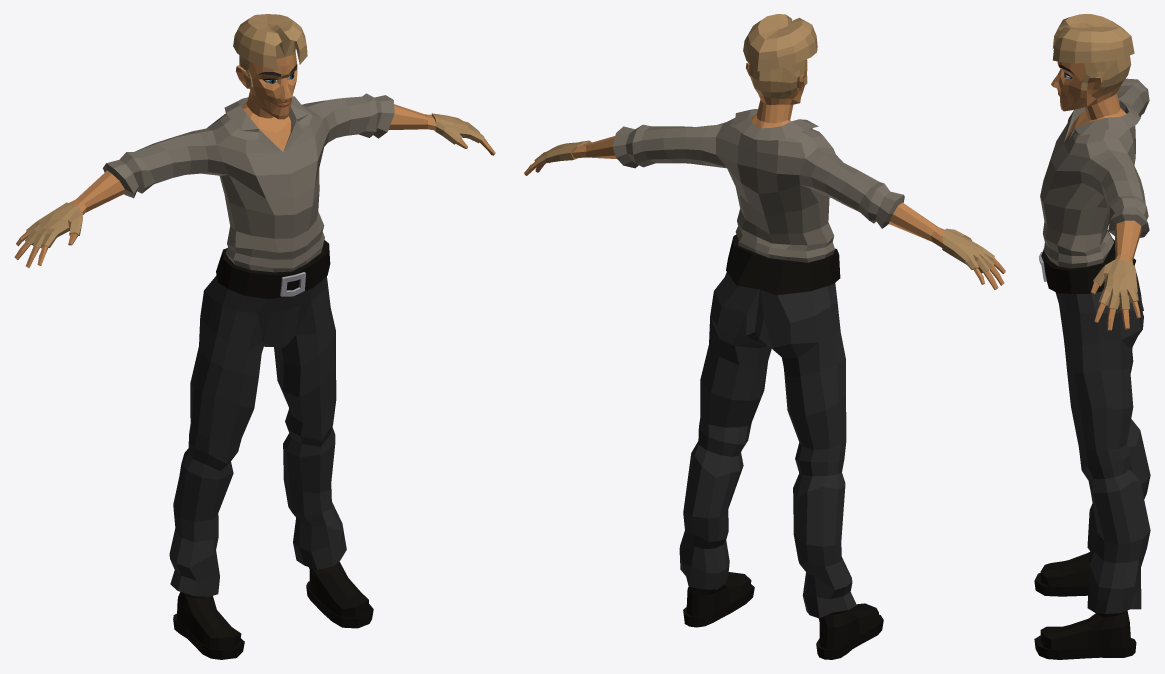
The model's file is Adventure_M_3.fbx.
3 views of the same model, side by side, from view 1: azimuth 30°, elevation 25°; view 2: azimuth 150°, elevation 25°; view 3: azimuth 270°, elevation 25° (orthographic).
Parts seen in each view (by area): view 1: Adventure_M_3; view 2: Adventure_M_3; view 3: Adventure_M_3.
Part boxes in pixels (<box>): Adventure_M_3: <box>14,14,495,659</box>; Adventure_M_3: <box>524,14,1005,659</box>; Adventure_M_3: <box>1034,14,1150,659</box>.
Size of the model in its own units: 149 by 181 by 31.89.
Materials: 1 (1 with a texture image).
